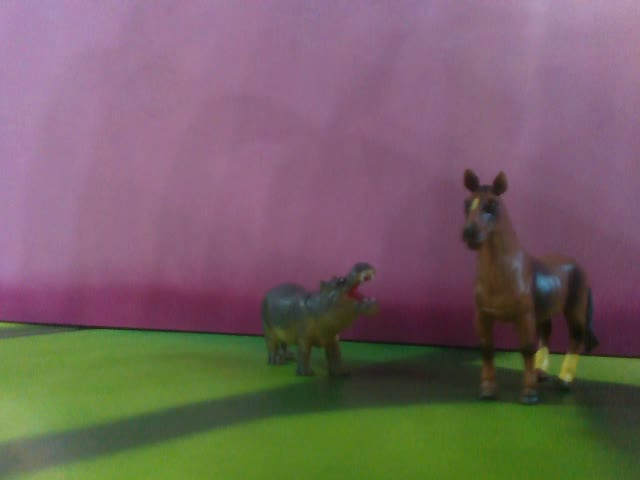toy: (460, 168, 597, 405), (259, 263, 377, 376)
